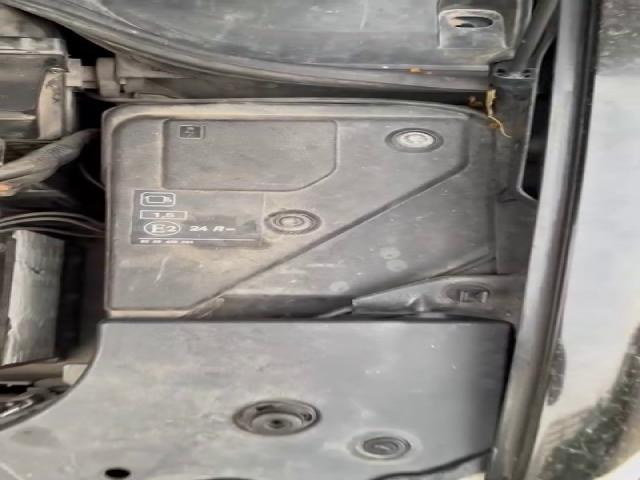accumulator: (0, 209, 86, 369)
fuse_box: (103, 100, 499, 319)
